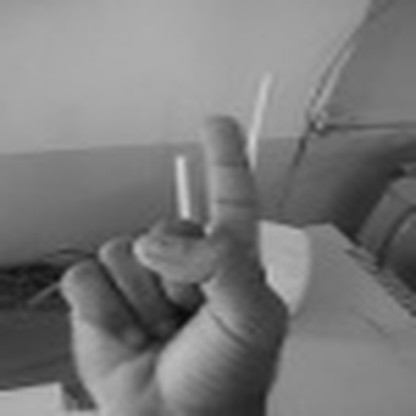d: (57, 112, 289, 411)
